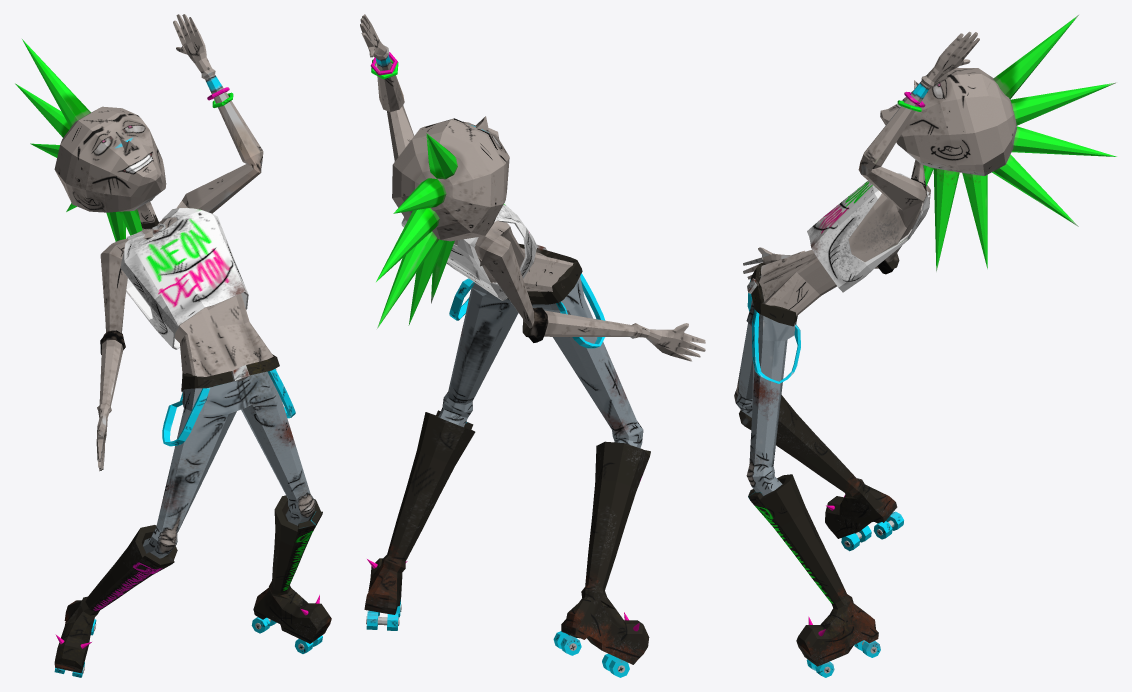
The model's file is punkAnimation_000120.obj.
3 renders of one model, left to right at view 1: azimuth 30°, elevation 25°; view 2: azimuth 150°, elevation 25°; view 3: azimuth 270°, elevation 25°, orthographic. The views are drawn at different scales.
Parts seen in each view (by area): view 1: Cube.004_Cube.003; view 2: Cube.004_Cube.003; view 3: Cube.004_Cube.003.
Part boxes in pixels (x1,y1,x2,y2): Cube.004_Cube.003: (15,14,331,677); Cube.004_Cube.003: (360,14,705,677); Cube.004_Cube.003: (734,15,1116,677).
Size of the model in its own units: 2.96 by 6.36 by 3.6.
